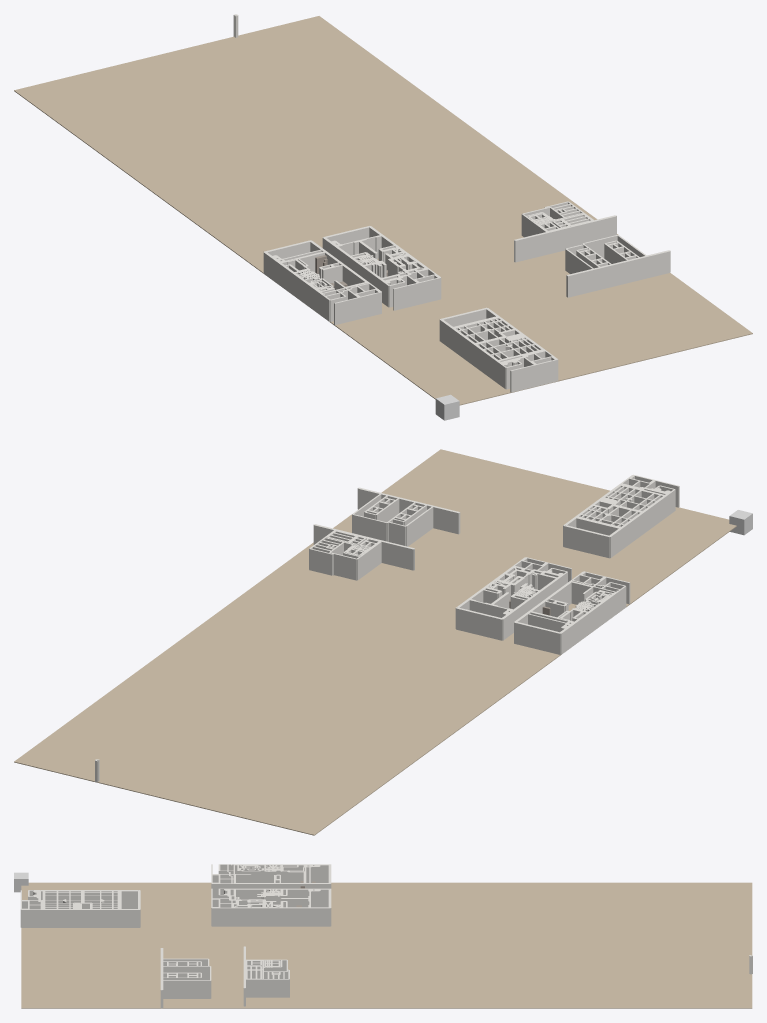
The model's file is reconstructed_multiroom_property_pr007.glb.
The picture shows the model from 3 angles, top to bottom: view 1: azimuth 30°, elevation 25°; view 2: azimuth 150°, elevation 25°; view 3: azimuth 270°, elevation 25°; orthographic projection. The views are drawn at different scales.
Visible parts, largest first — view 1: Cube.1011, Cube.911, Cube.783, Cube.012, Cube.543, Cube.480, Cube.575, Cube.002, Cube.371; view 2: Cube.1011, Cube.012, Cube.909, Cube.543, Cube.606, Cube.233, Cube.010, Cube.371, Cube.785, Cube.975, Cube.912; view 3: Cube.1011, Cube.991, Cube.540, Cube.976, Cube.665, Cube.008, Cube.482, Cube.577, Cube.608, Cube.633, Cube.863, Cube.605.
Boxes of the visible parts, box(x1,y1,x2,y2) form: Cube.1011: box(14, 16, 752, 405); Cube.911: box(567, 250, 670, 297); Cube.783: box(515, 216, 616, 262); Cube.012: box(263, 252, 321, 314); Cube.543: box(451, 328, 500, 384); Cube.480: box(393, 277, 440, 310); Cube.575: box(510, 359, 557, 392); Cube.002: box(334, 292, 381, 324); Cube.371: box(322, 237, 380, 289); Cube.1011: box(14, 449, 736, 835); Cube.012: box(560, 592, 617, 654); Cube.909: box(358, 488, 459, 534); Cube.543: box(621, 494, 669, 548); Cube.606: box(563, 525, 609, 558); Cube.233: box(456, 608, 502, 640); Cube.010: box(514, 622, 560, 654); Cube.371: box(502, 578, 559, 640); Cube.785: box(357, 535, 413, 570); Cube.975: box(352, 514, 387, 541); Cube.912: box(405, 507, 433, 546); Cube.1011: box(21, 882, 752, 1008); Cube.991: box(232, 907, 330, 926); Cube.540: box(41, 909, 119, 927); Cube.976: box(163, 980, 210, 998); Cube.665: box(246, 979, 288, 997); Cube.008: box(234, 883, 330, 888); Cube.482: box(212, 907, 231, 926); Cube.577: box(21, 909, 41, 927); Cube.608: box(119, 909, 139, 927); Cube.633: box(45, 895, 117, 900); Cube.863: box(162, 966, 210, 980); Cube.605: box(121, 890, 138, 908).
Bounding box in the file's own units: 41.2 × 3.7 × 99.77.
